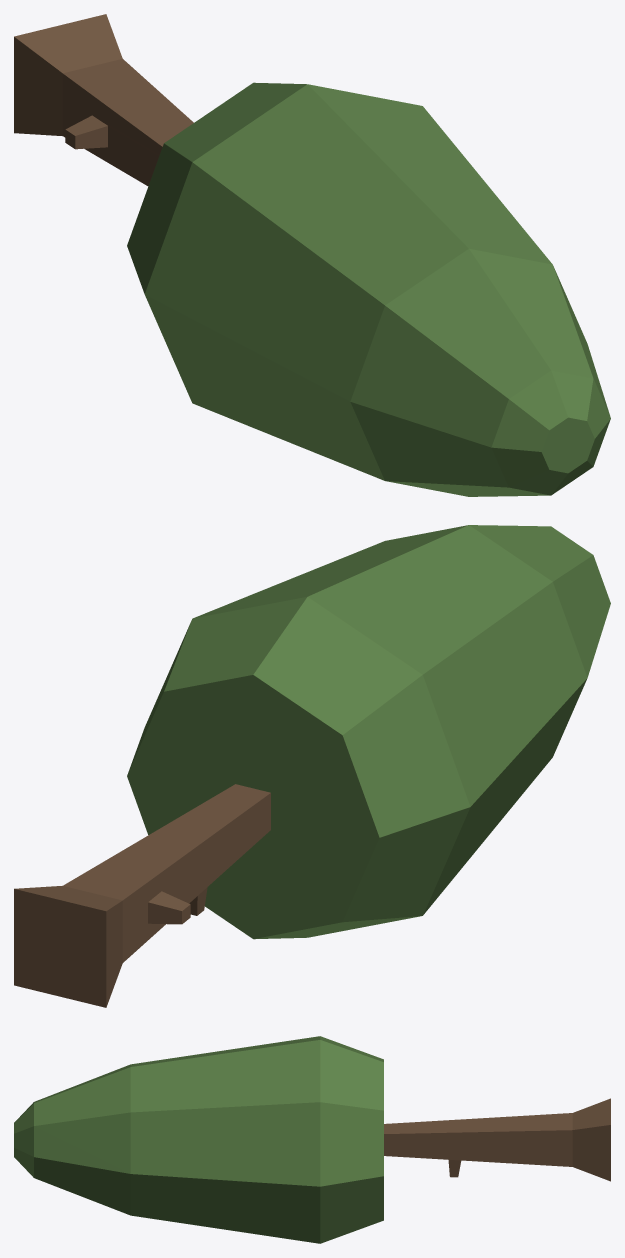
The model's file is tree-model-cone-24-ft.obj.
The picture shows the model from 3 angles, top to bottom: view 1: azimuth 30°, elevation 25°; view 2: azimuth 150°, elevation 25°; view 3: azimuth 270°, elevation 25°; orthographic projection. The views are drawn at different scales.
Visible parts, largest first — view 1: tree-model-cone-24-ft; view 2: tree-model-cone-24-ft; view 3: tree-model-cone-24-ft.
Part boxes in pixels (left/top/right/bottom): tree-model-cone-24-ft: left=14, top=14, right=610, bottom=496; tree-model-cone-24-ft: left=14, top=525, right=610, bottom=1007; tree-model-cone-24-ft: left=14, top=1036, right=610, bottom=1243.
Size of the model in its own units: 107 by 107 by 288.
